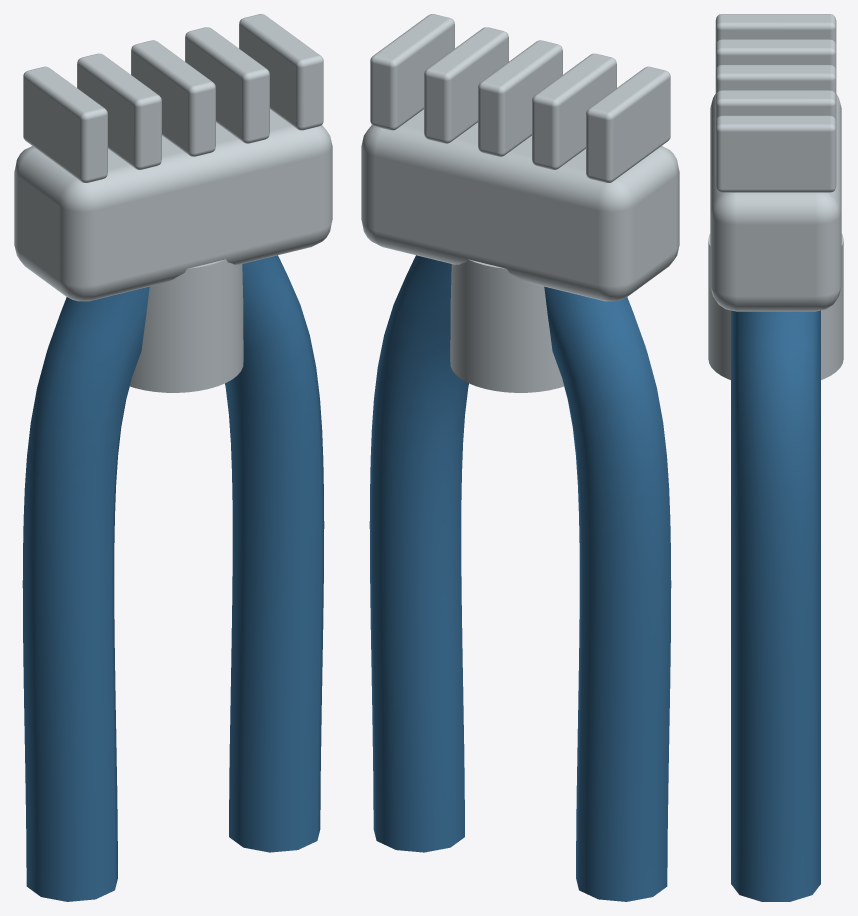
Rendered from squash-club-and-racket-workshop-clamp-tool-e3172eb3__29758.glb.
3 renders of one model, left to right at view 1: azimuth 30°, elevation 25°; view 2: azimuth 150°, elevation 25°; view 3: azimuth 270°, elevation 25°, orthographic. The views are drawn at different scales.
Visible parts, largest first — view 1: clamp-tool; view 2: clamp-tool; view 3: clamp-tool.
Part boxes in pixels (bbox=[...]): clamp-tool: bbox=[14, 14, 332, 901]; clamp-tool: bbox=[361, 14, 679, 901]; clamp-tool: bbox=[708, 14, 843, 901].
Bounding box in the file's own units: 0.085 × 0.225 × 0.036.
